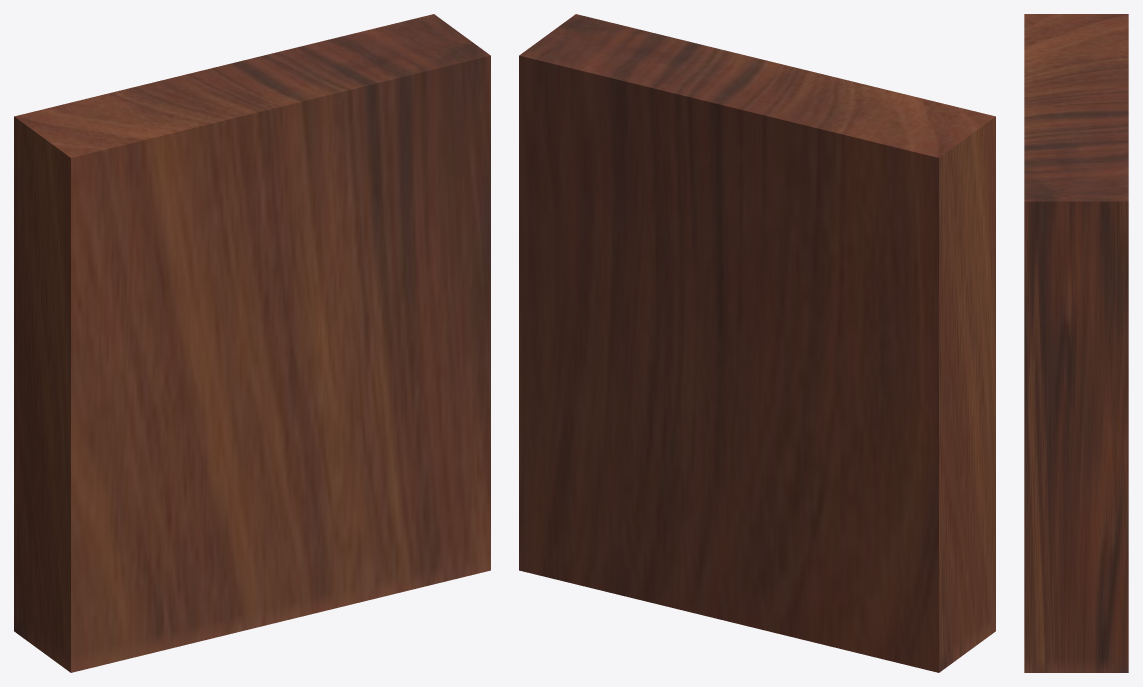
Rendered from ParedeLabirinto.obj.
The picture shows the model from 3 angles, left to right: view 1: azimuth 30°, elevation 25°; view 2: azimuth 150°, elevation 25°; view 3: azimuth 270°, elevation 25°; orthographic projection. The views are drawn at different scales.
Parts seen in each view (by area): view 1: pCube1; view 2: pCube1; view 3: pCube1.
Boxes of the visible parts, x1,y1,x2,y2 form: pCube1: (14,14,490,672); pCube1: (519,14,995,672); pCube1: (1024,14,1128,672).
Size of the model in its own units: 1.28 by 1.5 by 0.3.
Materials: 1 (1 with a texture image).
